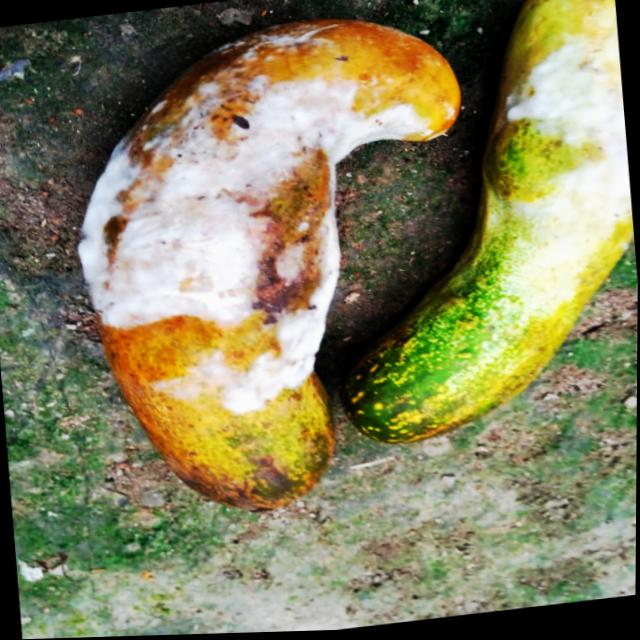Pythium-Fruit-Rot: (59, 7, 449, 437), (496, 28, 634, 239)
